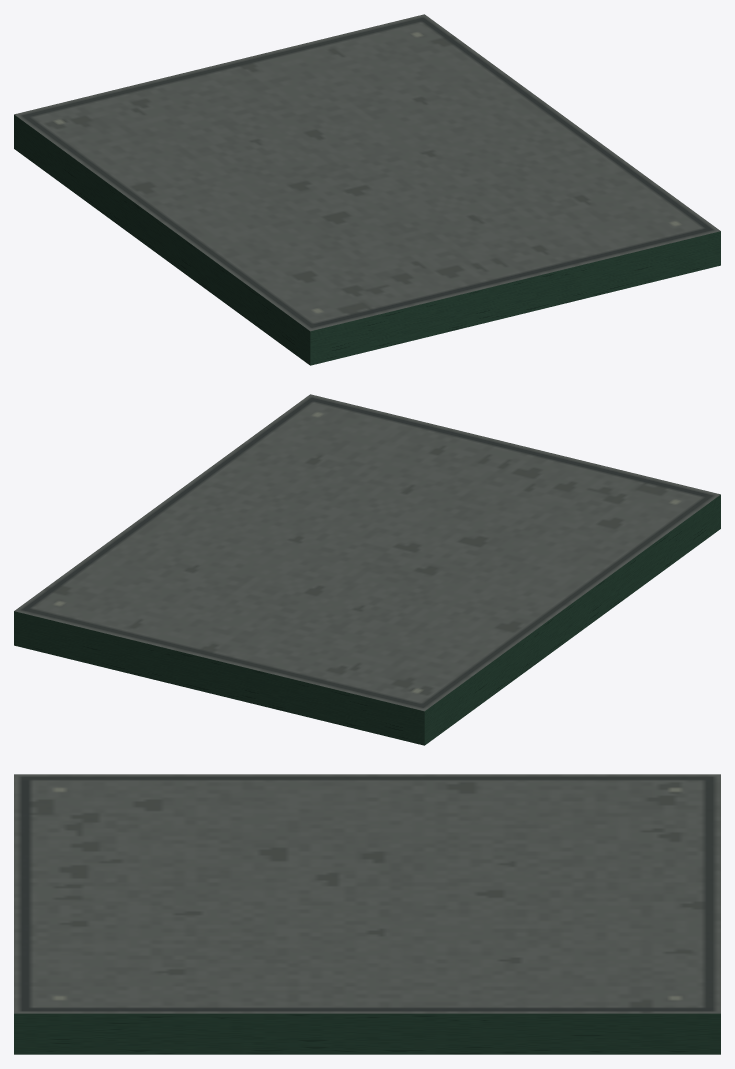
File: DeckTile4x5.fbx
The picture shows the model from 3 angles, top to bottom: view 1: azimuth 30°, elevation 25°; view 2: azimuth 150°, elevation 25°; view 3: azimuth 270°, elevation 25°; orthographic projection. The views are drawn at different scales.
Parts seen in each view (by area): view 1: DeckTile4x5; view 2: DeckTile4x5; view 3: DeckTile4x5.
Part boxes in pixels (box(x1,y1,x2,y2)): DeckTile4x5: box(14, 14, 720, 365); DeckTile4x5: box(14, 394, 720, 745); DeckTile4x5: box(14, 774, 720, 1054).
Size of the model in its own units: 400 by 32 by 500.
